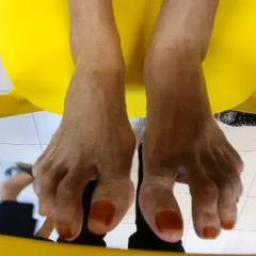Front View -Both Feet-: (29, 15, 246, 248)
